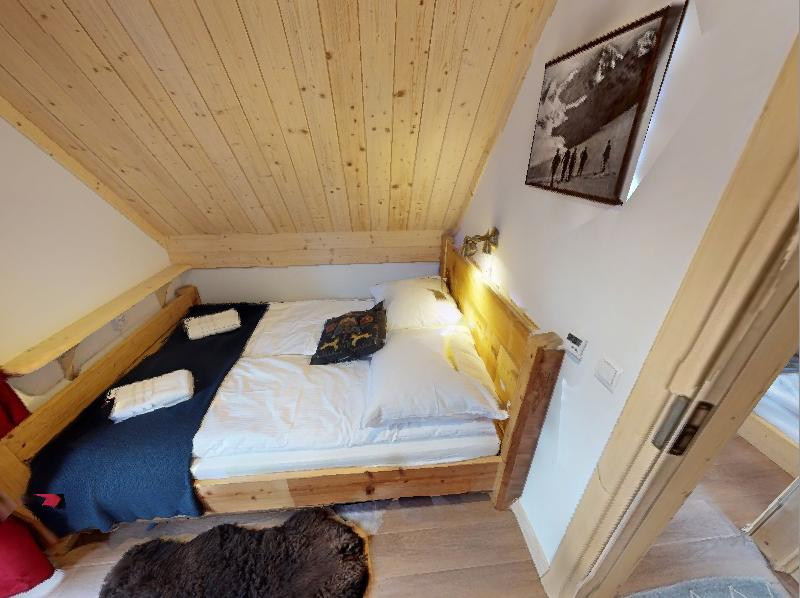bed: (0, 214, 602, 519)
